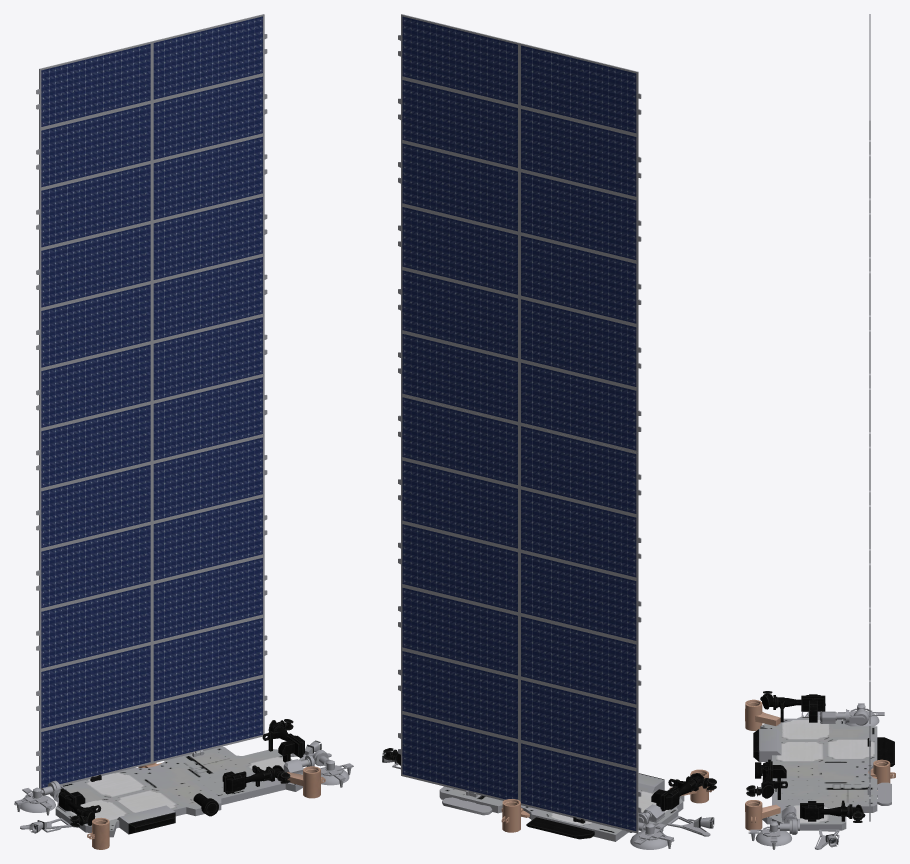
File: starlink.glb
3 renders of one model, left to right at view 1: azimuth 30°, elevation 25°; view 2: azimuth 150°, elevation 25°; view 3: azimuth 270°, elevation 25°, orthographic. The views are drawn at different scales.
Visible parts, largest first — view 1: camera_right_Cube.003; view 2: camera_right_Cube.003; view 3: camera_right_Cube.003.
Part boxes in pixels (x1,y1,x2,y2): camera_right_Cube.003: (14,14,353,849); camera_right_Cube.003: (382,14,716,849); camera_right_Cube.003: (745,14,895,849).
Size of the model in its own units: 2.8 by 6.42 by 1.22.
1 material, 1 textured.
